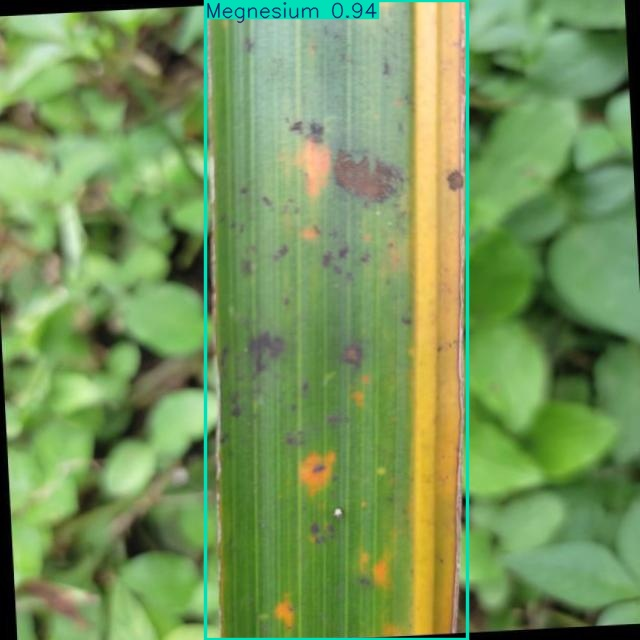Megnesium: (205, 0, 468, 640)
